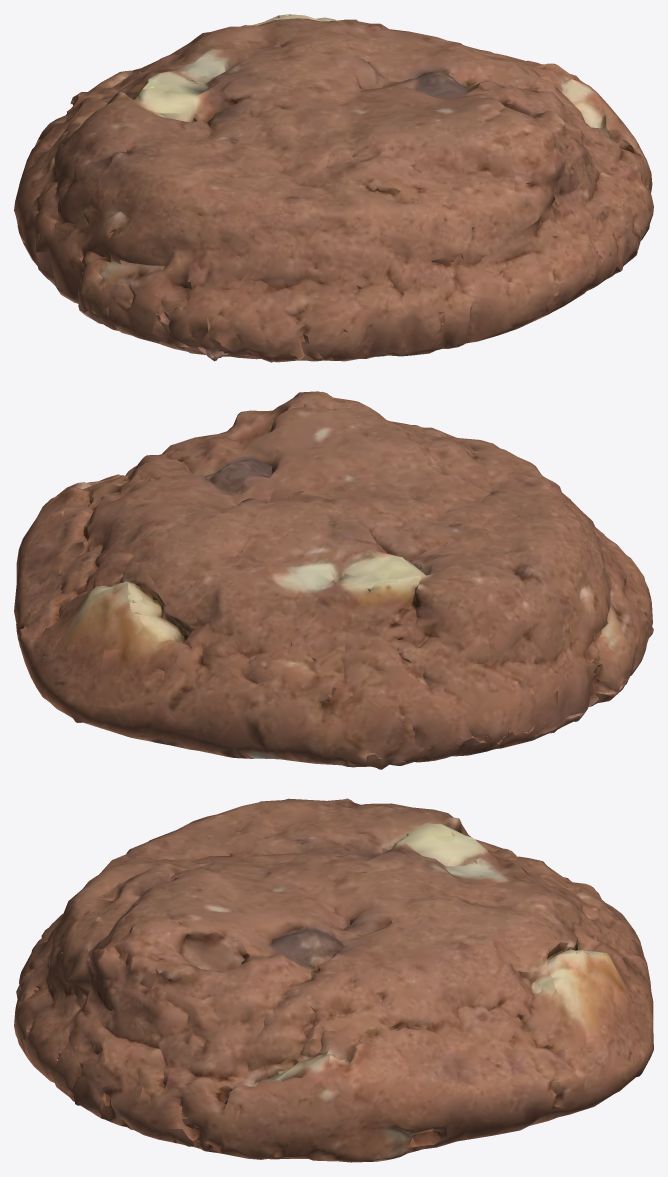
Rendered from cookie.glb.
3 renders of one model, top to bottom at view 1: azimuth 30°, elevation 25°; view 2: azimuth 150°, elevation 25°; view 3: azimuth 270°, elevation 25°, orthographic. The views are drawn at different scales.
Visible parts, largest first — view 1: cookie; view 2: cookie; view 3: cookie.
Boxes of the visible parts, box(x1,y1,x2,y2) form: cookie: box(14, 14, 653, 362); cookie: box(14, 391, 653, 769); cookie: box(14, 798, 653, 1162).
Bounding box in the file's own units: 0.0823 × 0.0237 × 0.0809.
Materials: 1 (1 with a texture image).
